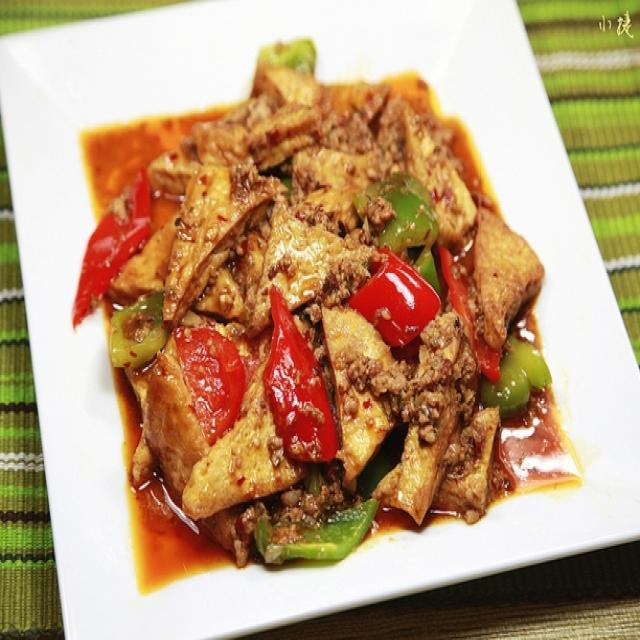豆腐料理: (42, 36, 586, 584)
